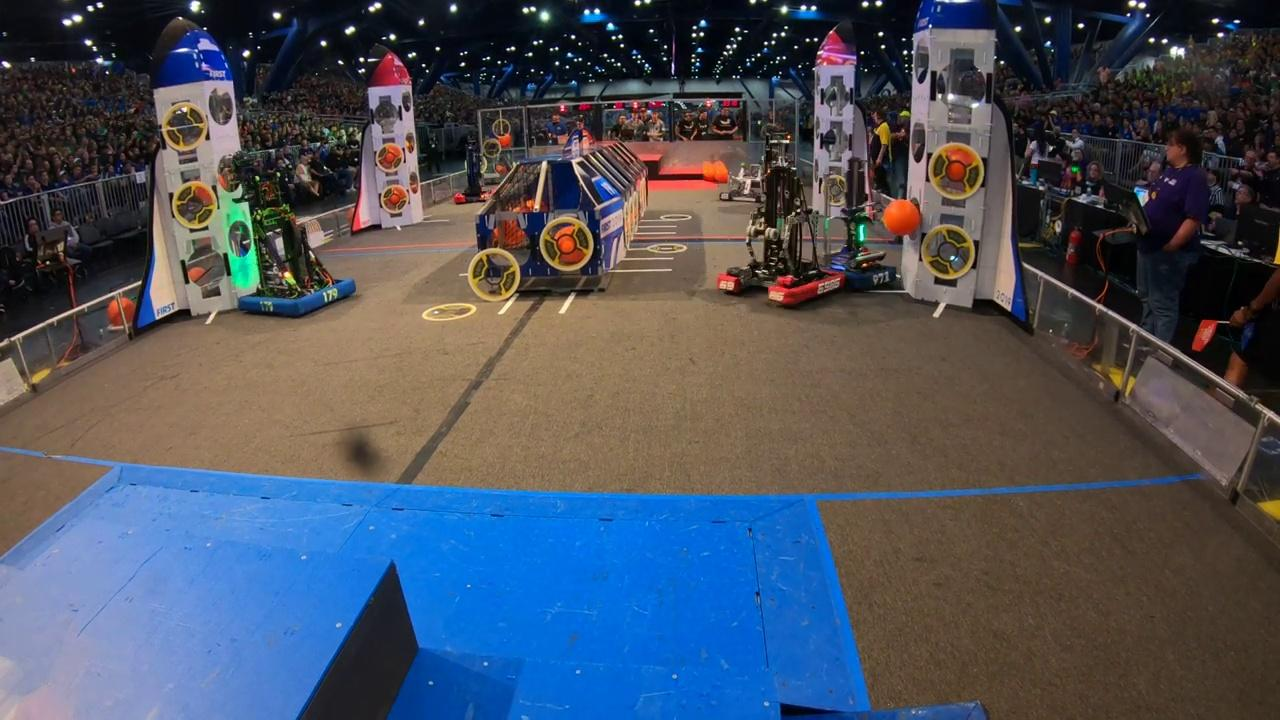robot: (714, 131, 844, 311), (234, 189, 358, 323), (816, 153, 900, 297)
